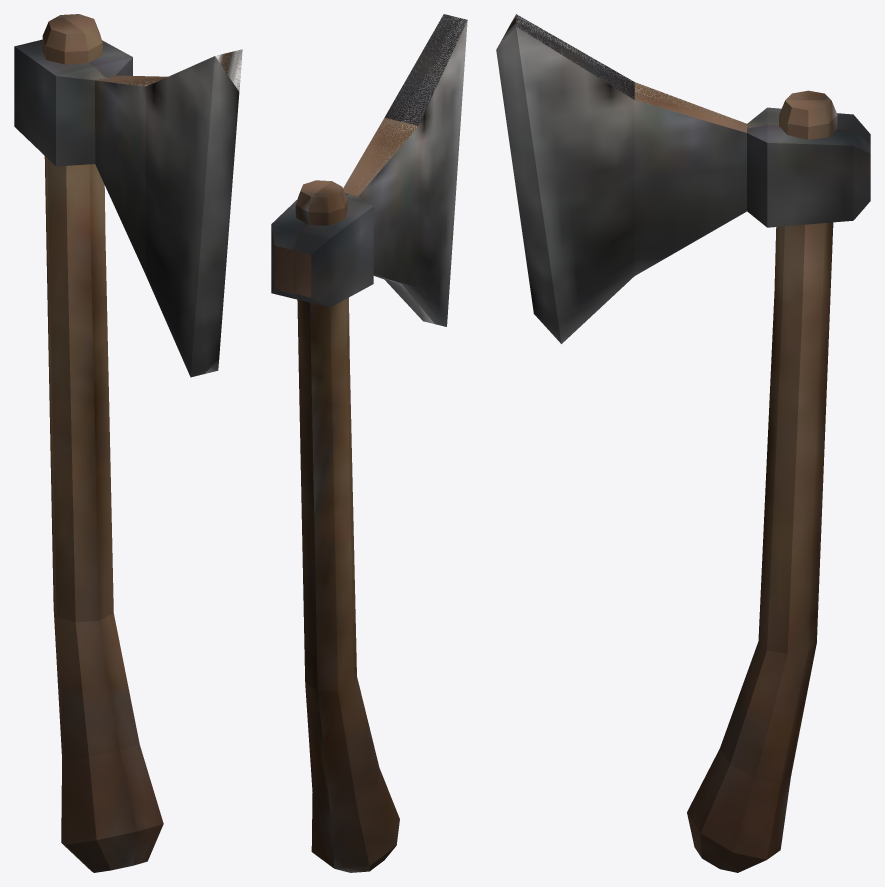
The model's file is axe.fbx.
3 renders of one model, left to right at view 1: azimuth 30°, elevation 25°; view 2: azimuth 150°, elevation 25°; view 3: azimuth 270°, elevation 25°, orthographic. The views are drawn at different scales.
Parts seen in each view (by area): view 1: Cylinder; view 2: Cylinder; view 3: Cylinder.
Boxes of the visible parts, x1,y1,x2,y2 form: Cylinder: [14, 14, 242, 872]; Cylinder: [271, 14, 467, 872]; Cylinder: [496, 14, 870, 872].
Bounding box in the file's own units: 78.46 × 715 × 286.
Materials: 1 (1 with a texture image).
